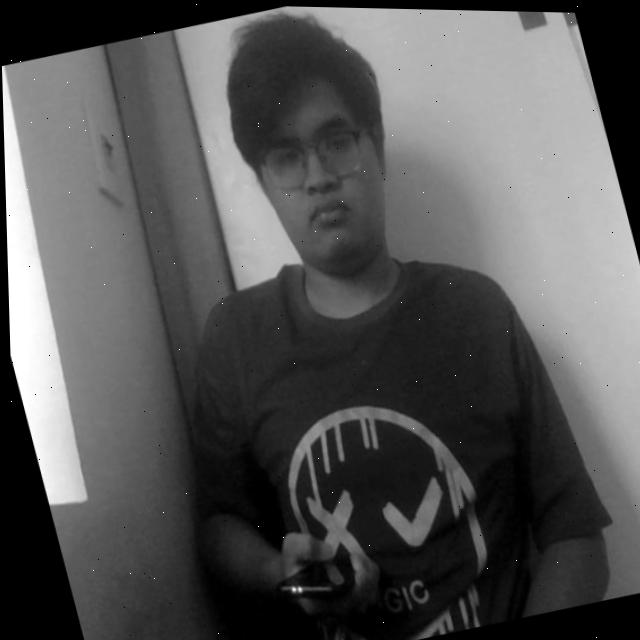phone: (257, 523, 364, 632)
